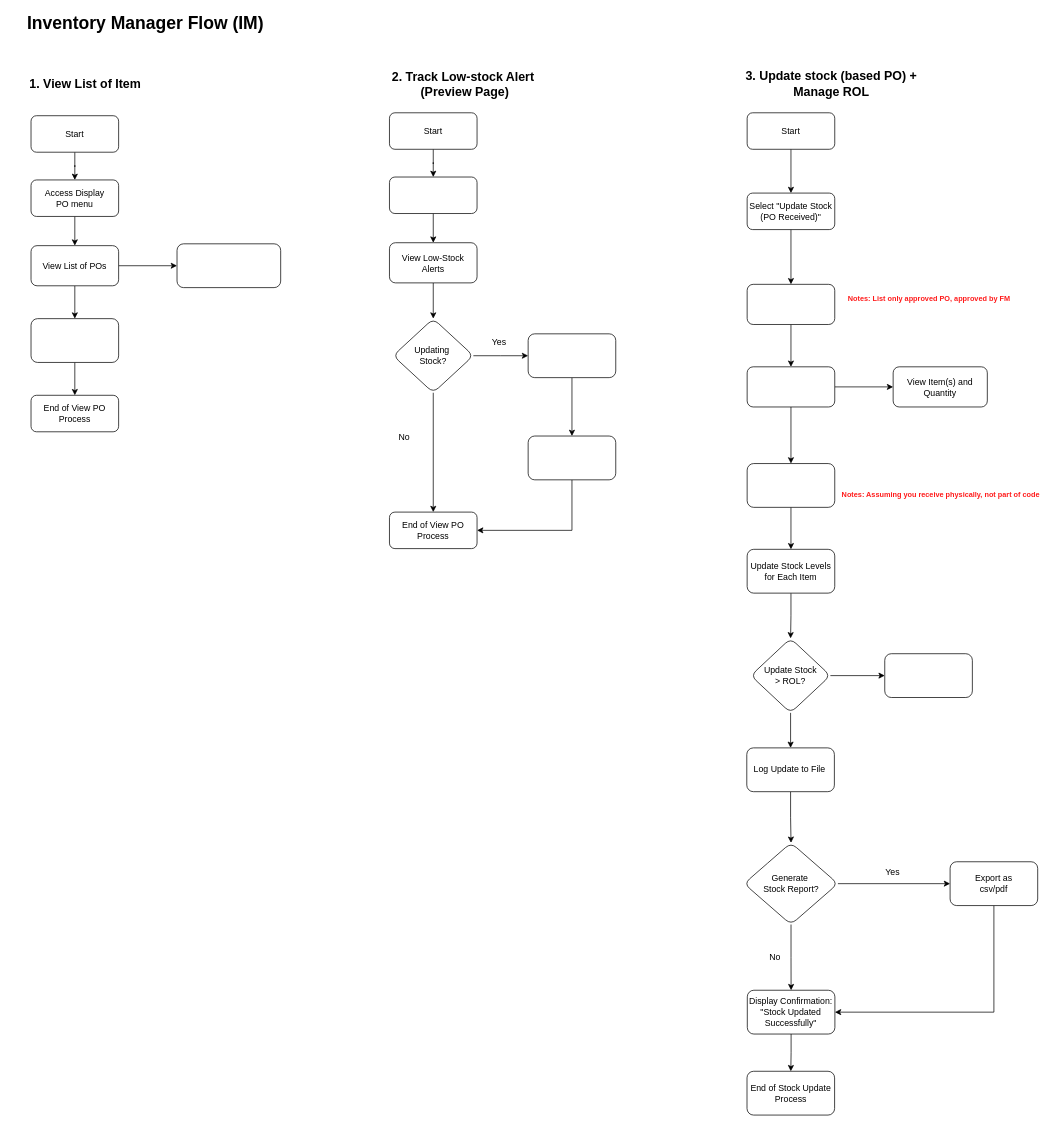
This 1052x1128 diagram has some shape labels left out. Each missing label, with the centre of its shape:
Access Preview m enu: the point at 433,195
After update, re-check low-stock: the point at 571,457
Choose PO: the point at 790,386
Confirm Received Items: the point at 790,485
Go to Update stock page: the point at 571,355
Remove ROL flag: the point at 928,675
Status Pending, Approved, Rejected: the point at 228,265
System Displays List of Approved POs: the point at 790,304
View PO Details (PO ID, Supplier, Items, Quantity, Status): the point at 74,340
